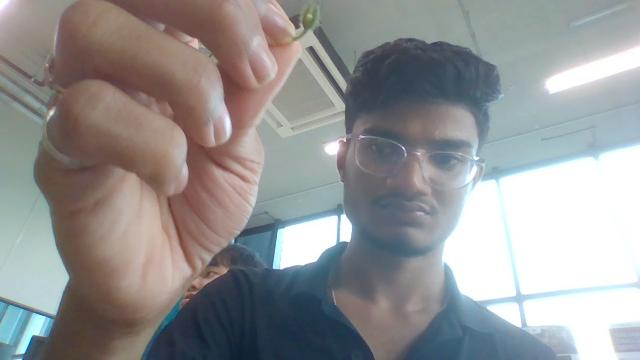Fruit Bud: (300, 2, 322, 35)
